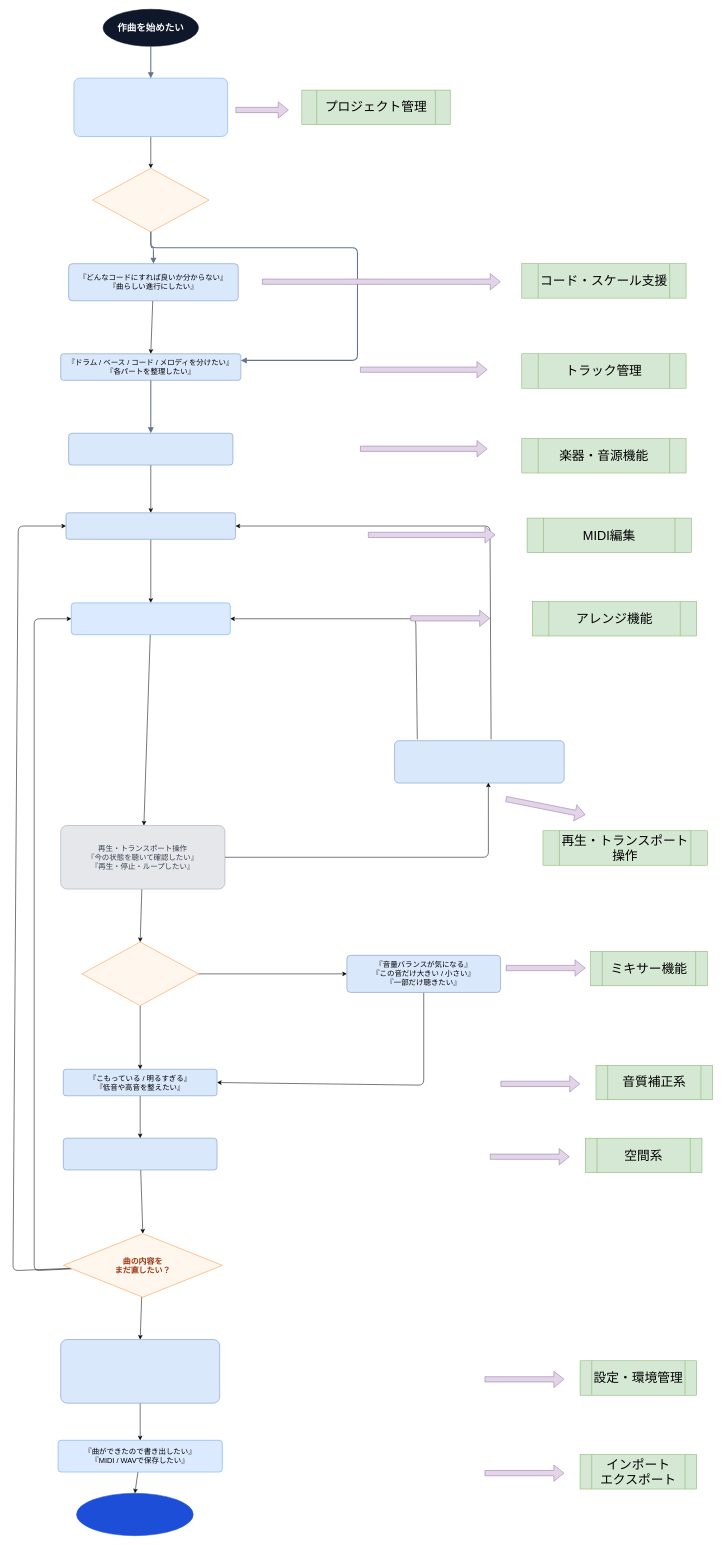
This 722x1545 diagram has some shape labels left out. Each missing label, with the box of its shape:
『Aメロ・Bメロ・サビの流れを作りたい』 『曲全体の構成を並べたい』: (71, 602, 230, 635)
『このトラックをどんな音で鳴らすか決めたい』 『ピアノ・ベース・ドラム音を選びたい』: (68, 433, 233, 465)
『まず新しく曲を作りたい』 『途中で保存したい』 『後で続きから開きたい』: (73, 78, 228, 136)
『メロディや伴奏を打ち込みたい』 『音の高さ・長さ・強さを直したい』: (65, 512, 236, 539)
『少し広がりが欲しい』 『やまびこ感 / 奥行きを足したい』: (63, 1138, 217, 1170)
『操作をやり直したい』 『用語の意味を知りたい』 『ズームして見やすくしたい』: (394, 740, 564, 783)
何から 作り始める？: (92, 168, 209, 232)
曲を書き出す: (76, 1493, 193, 1536)
聴いてみて 気になる所は ある？: (81, 942, 198, 1006)
設定・環境管理 『自動保存や基本設定を変えたい』 『使いやすさを整えたい』: (60, 1339, 220, 1403)
